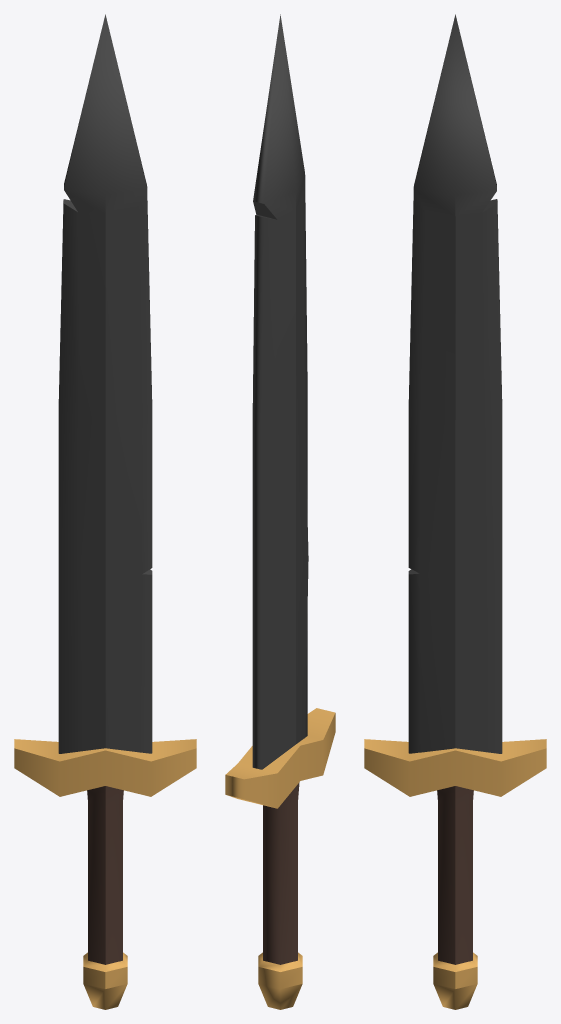
File: sword.fbx
3 views of the same model, side by side, from view 1: azimuth 90°, elevation 25°; view 2: azimuth 150°, elevation 25°; view 3: azimuth 270°, elevation 25° (orthographic).
Parts seen in each view (by area): view 1: Cube.001; view 2: Cube.001; view 3: Cube.001.
Boxes of the visible parts, <box> form: Cube.001: <box>14,14,196,1009</box>; Cube.001: <box>225,14,335,1009</box>; Cube.001: <box>364,14,546,1009</box>.
Size of the model in its own units: 389 by 2327 by 109.
